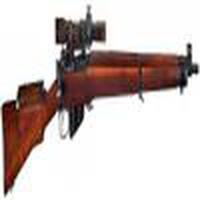gun: (3, 16, 188, 183)
